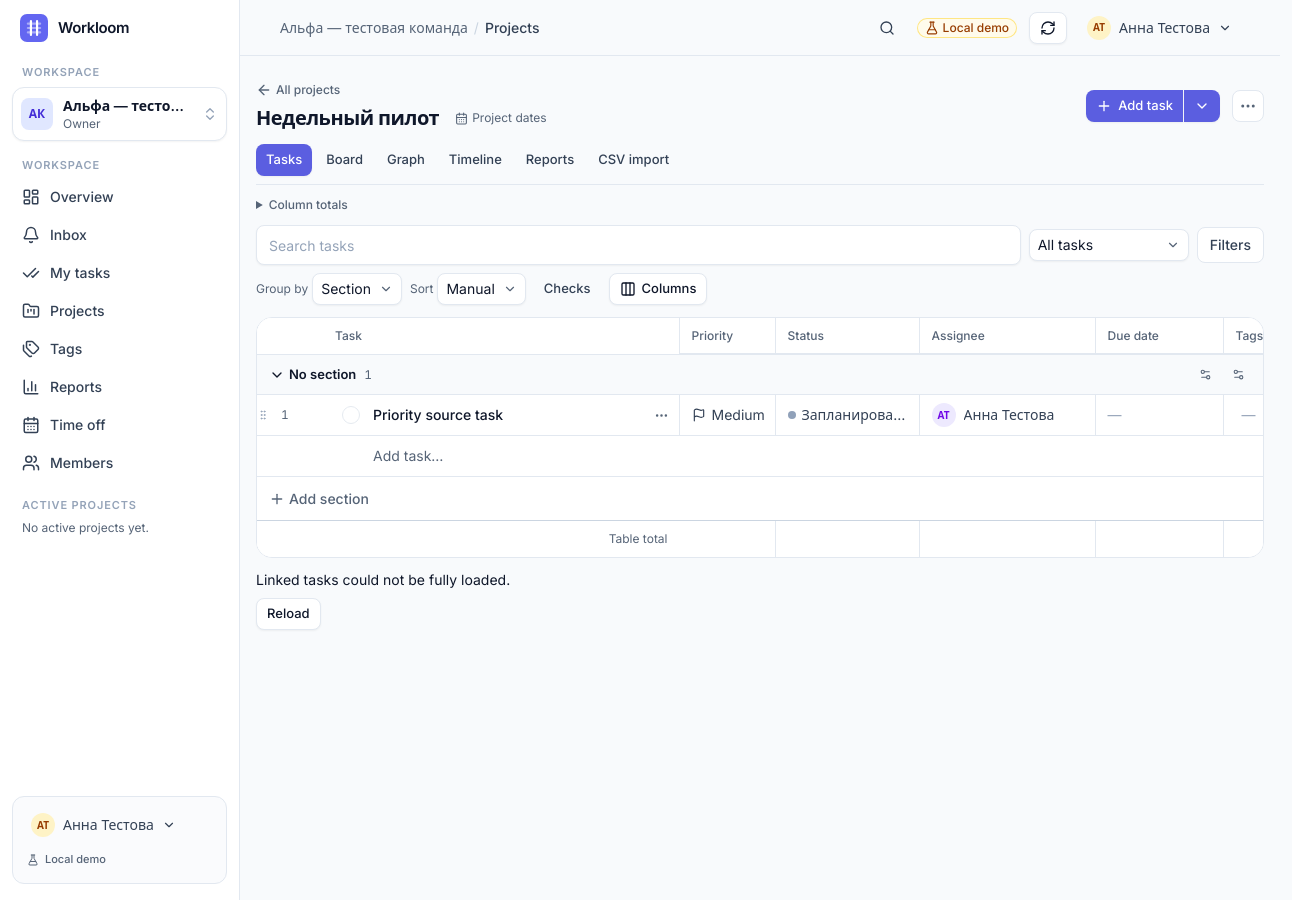
Scenario: actual project inline Priority › opens a custom Priority list in the fixed column without a drawer, native select or selection write
Check: the column heading "Priority" is shown, box [680,318,776,354]
Click the button "Medium".
click(728, 415)  # box [686,399,770,431]
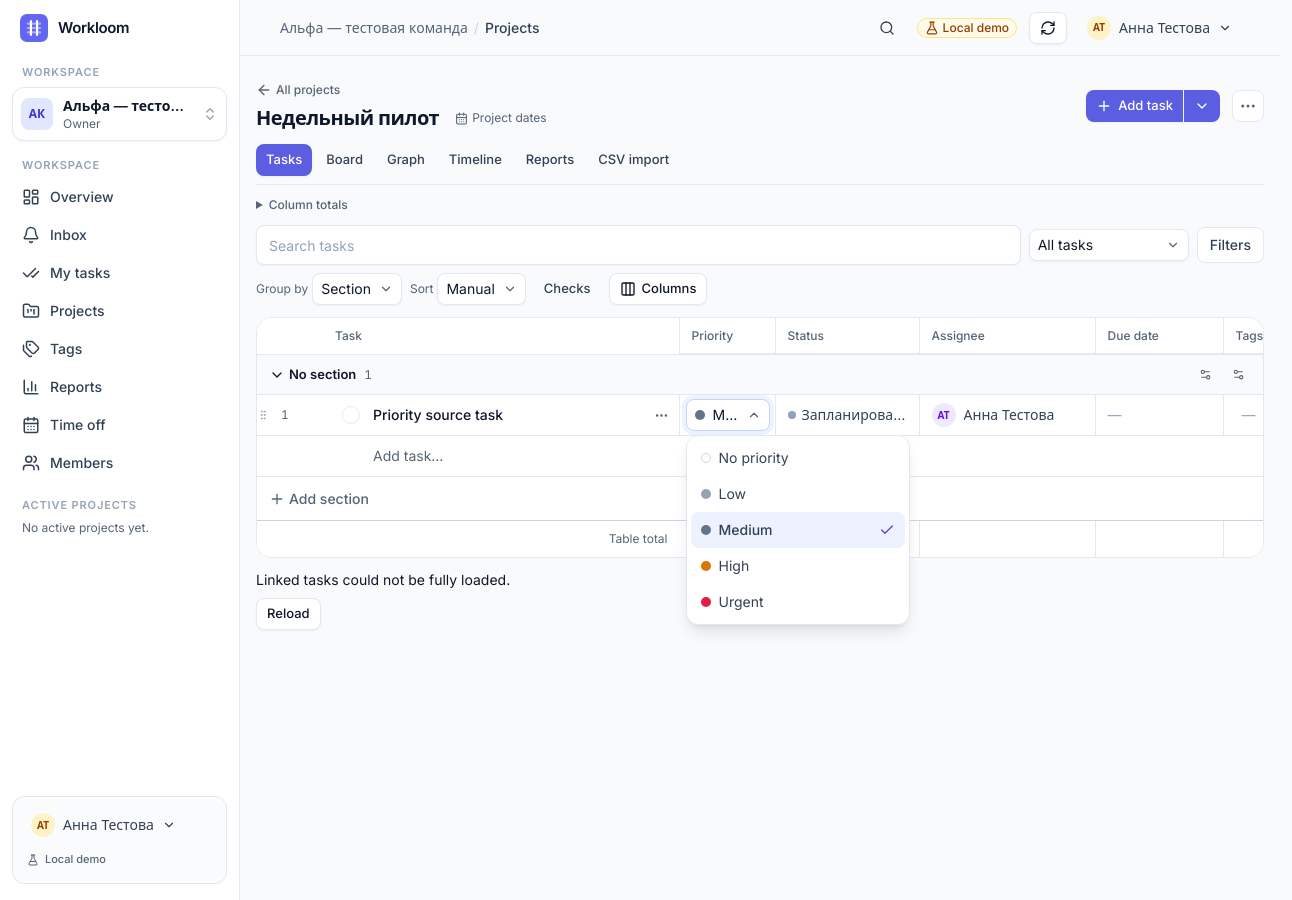
Check: the cell named "Priority" is shown, box [680,394,776,436]
Check: the options read "No priority", "Low", "Medium", "High", "Urgent", in this order, box [700,449,789,466]; [700,485,746,502]; [690,512,904,548]; [700,557,749,574]; [700,593,764,610]
Press Arrowdown
Press Escape
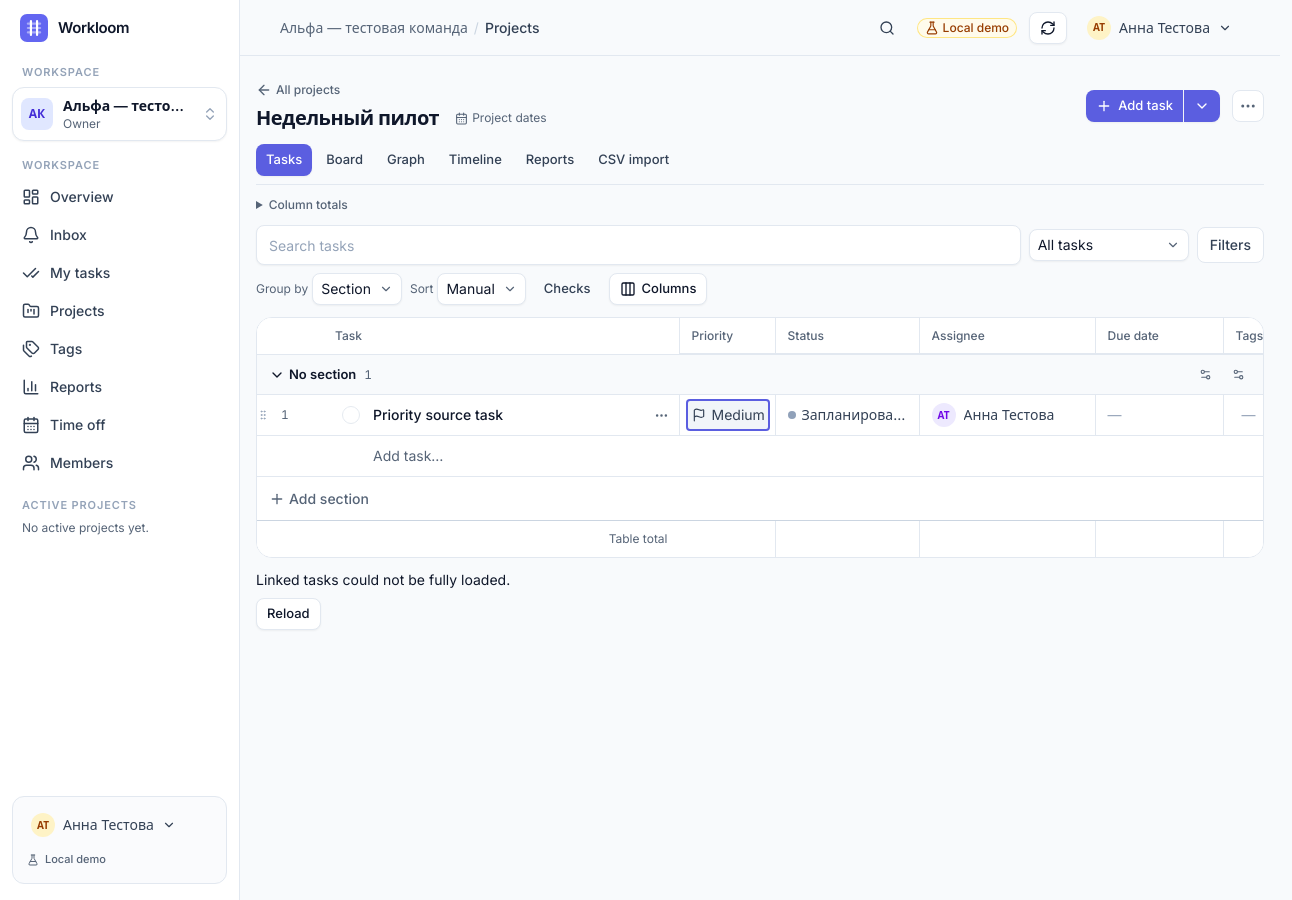
Check: the list "No priority Low Medium High Urgent" is gone
